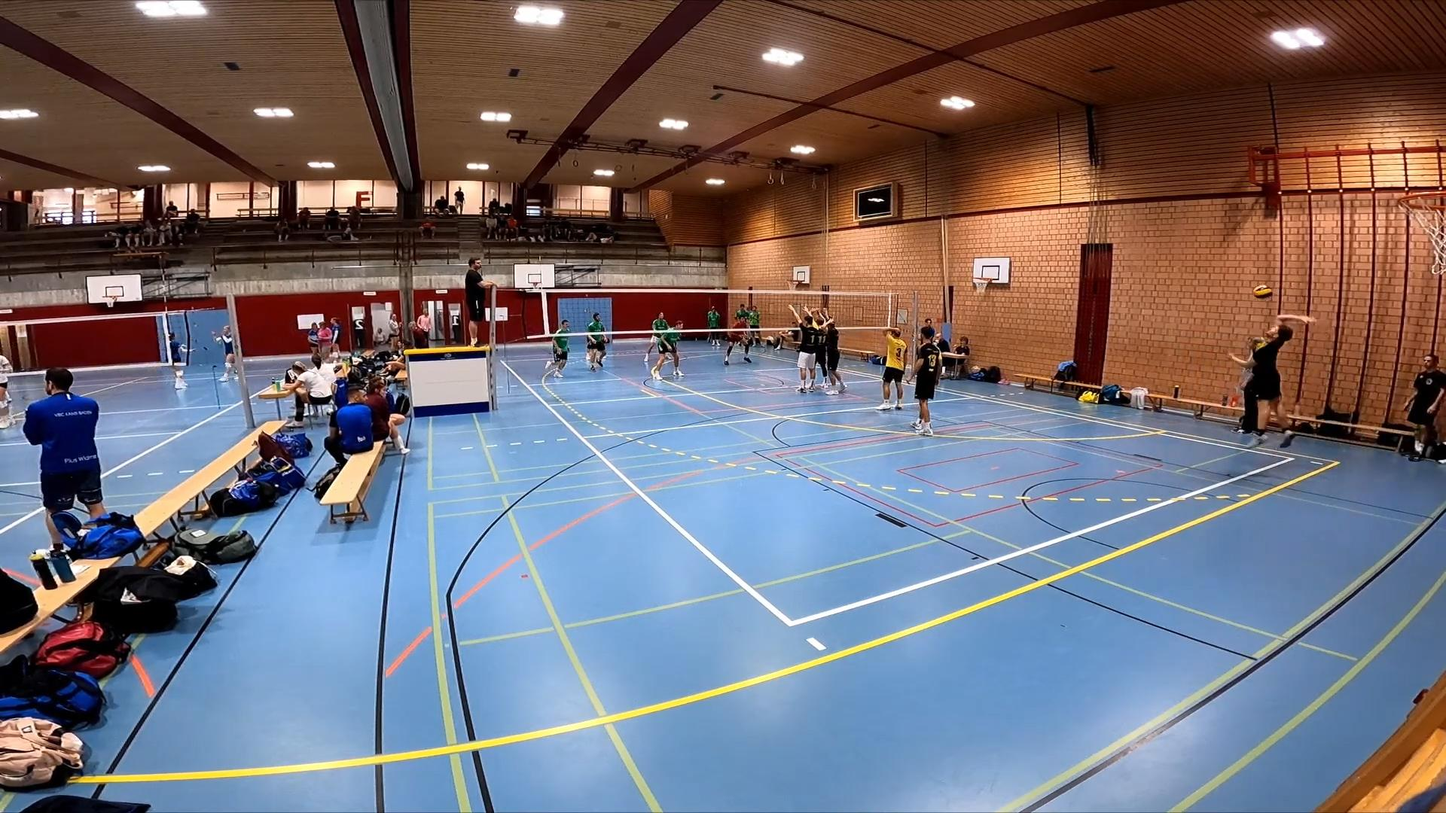alzata: (1233, 312, 1295, 453)
